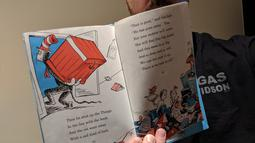text block: (127, 14, 182, 70), (62, 109, 120, 140)
